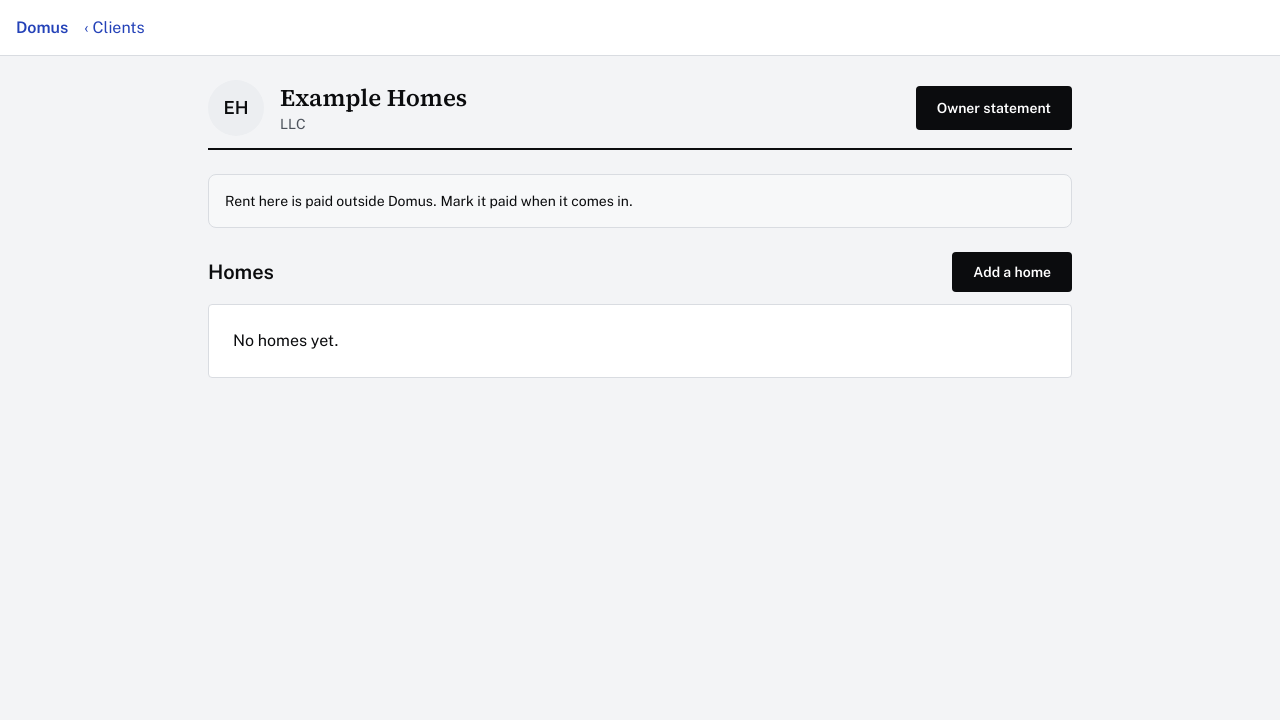
Scenario: owner statement sheet › shows the action error
This screenshot has width=1280, height=720.
Click the button "Owner statement" at (994, 108), box [916,86,1072,130]
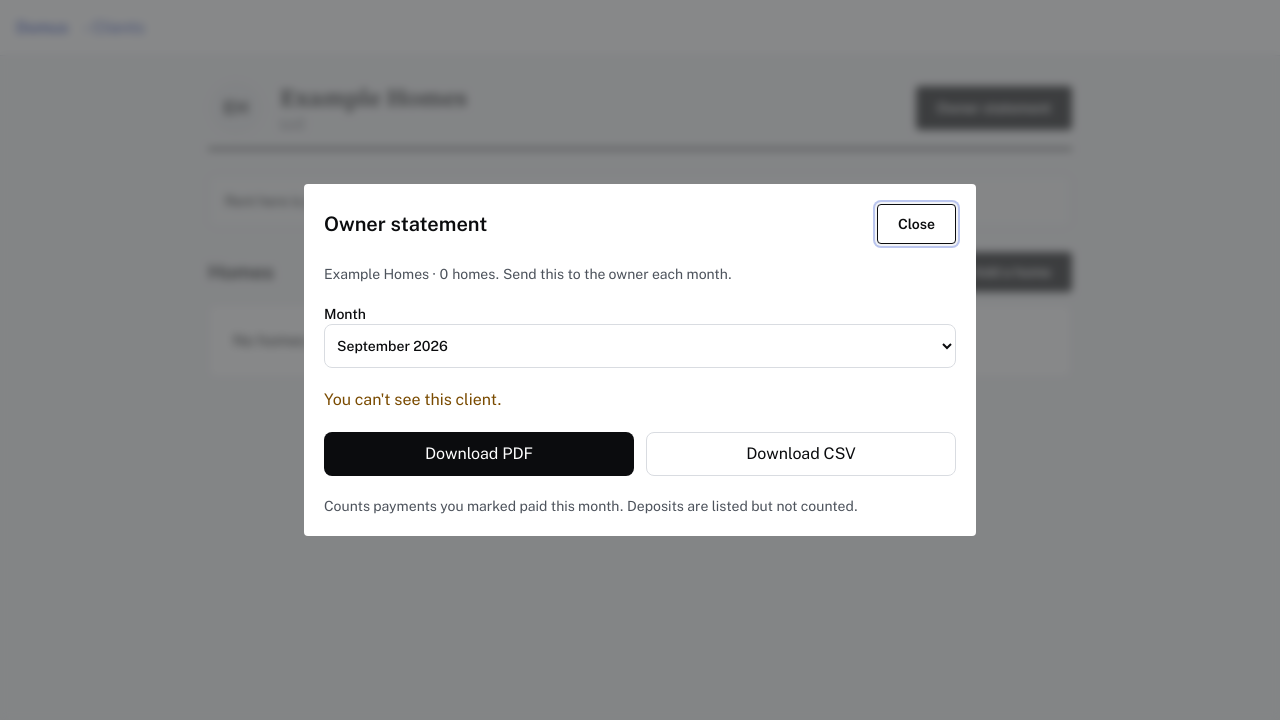
Result: the message reads "You can't see this client." at [324,390,502,409]
